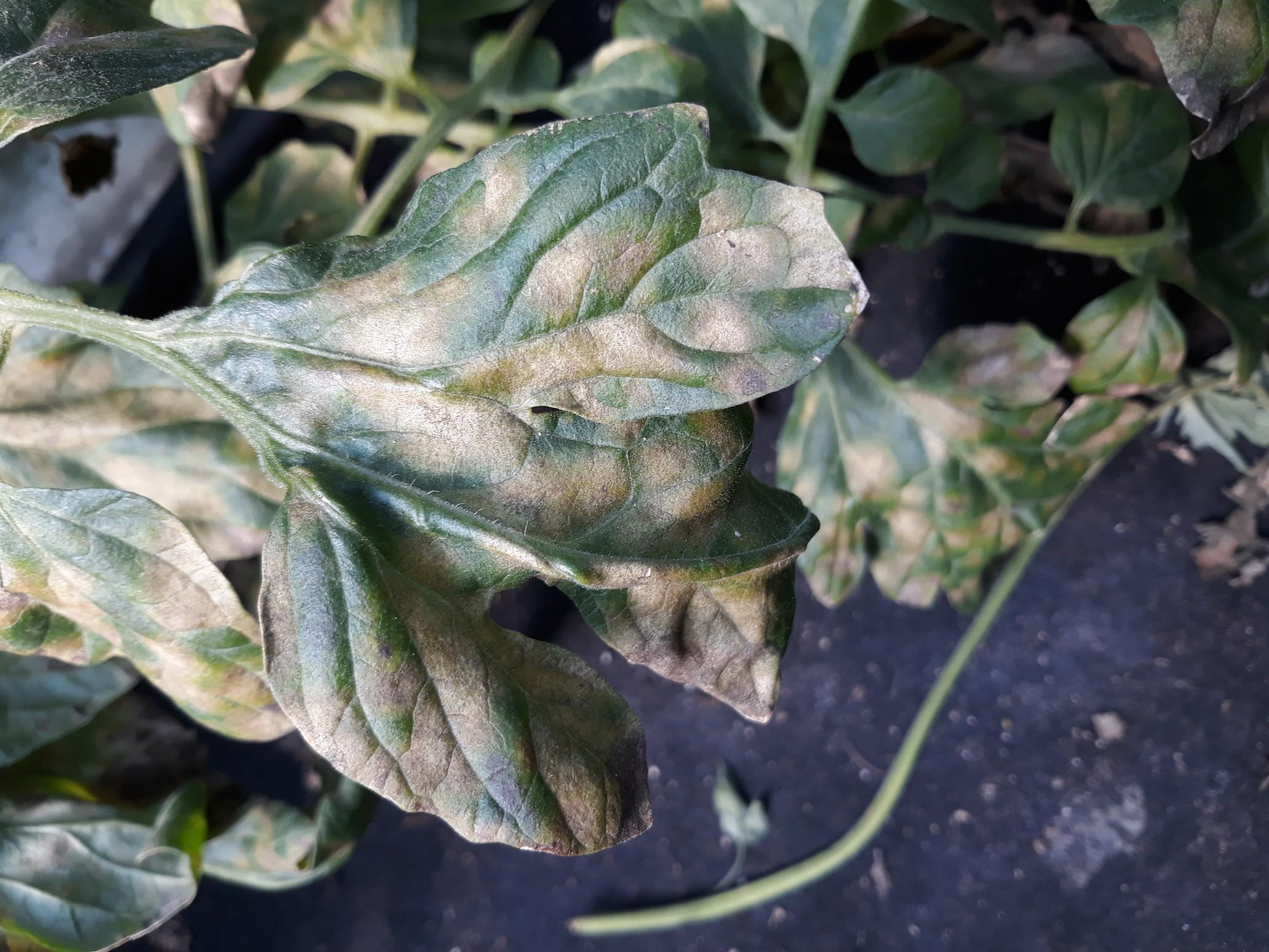Leaf Mold: (126, 192, 1120, 652), (279, 0, 836, 209), (462, 580, 839, 859)
